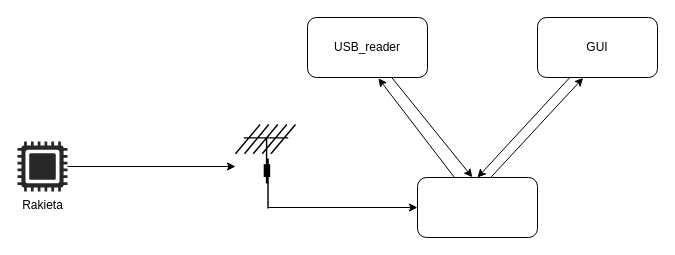
Image size: 675x255. Some labels were removed from this diagram. The shapes that lost their labels are listed below. From the top down, each one's centre as x and y in pixels, then its label:
(265,166): Antena
(477,207): ProcessData
